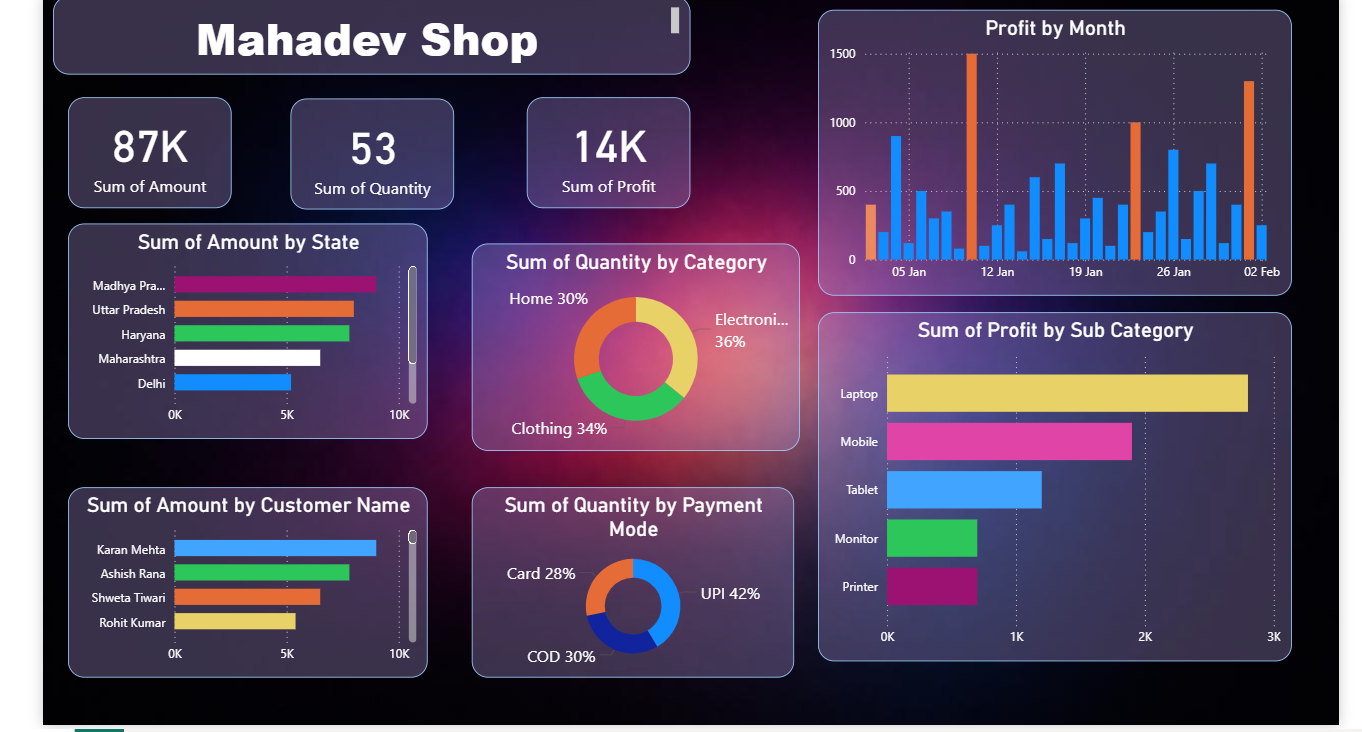

What the dashboard file says about the page in this screenshot:
{"tool":"powerbi","page":{"name":"Page 1","canvas":[1280,720],"ordinal":0},"visuals":[{"type":"textbox","box":[9.6,0,629.8,68.6],"z":0},{"type":"columnChart","title":" Profit by Month","fields":{"Category":["order_data.Order Date"],"Y":["sales_data.Profit"]},"box":[765.7,13.7,467.9,282.7],"z":1000},{"type":"barChart","fields":{"Category":["sales_data.Sub Category"],"Y":["sales_data.Profit"]},"box":[765.7,312.9,467.9,344.4],"z":2000},{"type":"donutChart","fields":{"Category":["sales_data.Category"],"Y":["sales_data.Quantity"]},"box":[424,244.3,323.8,204.5],"z":3000},{"type":"donutChart","fields":{"Y":["sales_data.Quantity"],"Category":["sales_data.Payment Mode"]},"box":[424,485.8,318.4,188],"z":4000},{"type":"card","fields":{"Values":["sales_data.Amount"]},"box":[0,79.6,161.9,109.8],"z":4001},{"type":"card","fields":{"Values":["sales_data.Quantity"]},"box":[231.9,79.6,161.9,109.8],"z":4002},{"type":"card","fields":{"Values":["sales_data.Profit"]},"box":[477.5,79.6,161.9,109.8],"z":4003},{"type":"barChart","fields":{"Category":["order_data.State"],"Y":["sales_data.Amount"]},"box":[24.7,225,355.4,212.7],"z":4004},{"type":"barChart","fields":{"Category":["order_data.Customer Name"],"Y":["sales_data.Amount"]},"box":[24.7,485.8,355.4,188],"z":4005}]}

Visuals, with their boxes on the page's 1280x720 design canvas (x1, y1, x2, y2). These are canvas units, not pixel positions in the 1362x732 screenshot, which may show the page scaled, cropped or inside an application window:
textbox: box=[10, 0, 639, 69]
" Profit by Month" columnChart: box=[766, 14, 1234, 296]
barChart - sales_data.Sub Category x sales_data.Profit: box=[766, 313, 1234, 657]
donutChart - sales_data.Category x sales_data.Quantity: box=[424, 244, 748, 449]
donutChart - sales_data.Quantity x sales_data.Payment Mode: box=[424, 486, 742, 674]
card - sales_data.Amount: box=[0, 80, 162, 189]
card - sales_data.Quantity: box=[232, 80, 394, 189]
card - sales_data.Profit: box=[478, 80, 639, 189]
barChart - order_data.State x sales_data.Amount: box=[25, 225, 380, 438]
barChart - order_data.Customer Name x sales_data.Amount: box=[25, 486, 380, 674]
